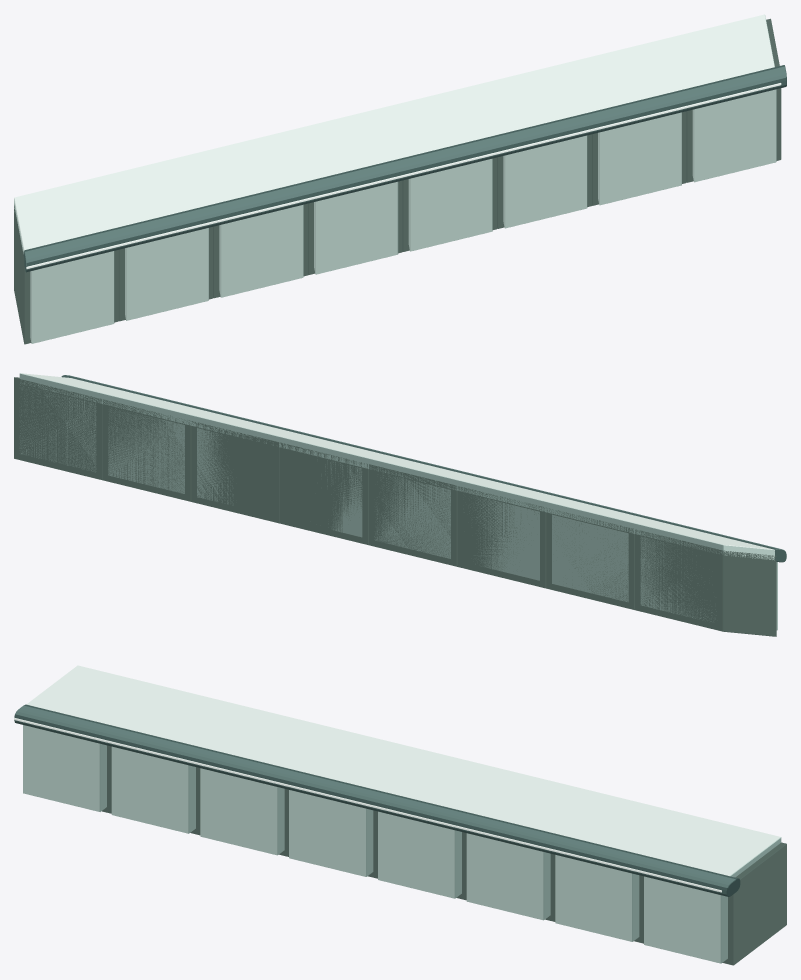
File: Terrain_TopRun8R.gltf
The picture shows the model from 3 angles, top to bottom: view 1: azimuth 30°, elevation 25°; view 2: azimuth 150°, elevation 25°; view 3: azimuth 330°, elevation 25°; orthographic projection. The views are drawn at different scales.
Visible parts, largest first — view 1: Terrain_TopRun8R_baked; view 2: Terrain_TopRun8R_baked; view 3: Terrain_TopRun8R_baked.
Boxes of the visible parts, x1=… form: Terrain_TopRun8R_baked: x1=14, y1=14, x2=786, y2=344; Terrain_TopRun8R_baked: x1=14, y1=373, x2=786, y2=636; Terrain_TopRun8R_baked: x1=14, y1=665, x2=786, y2=965.
Size of the model in its own units: 8.29 by 1.18 by 0.74.
